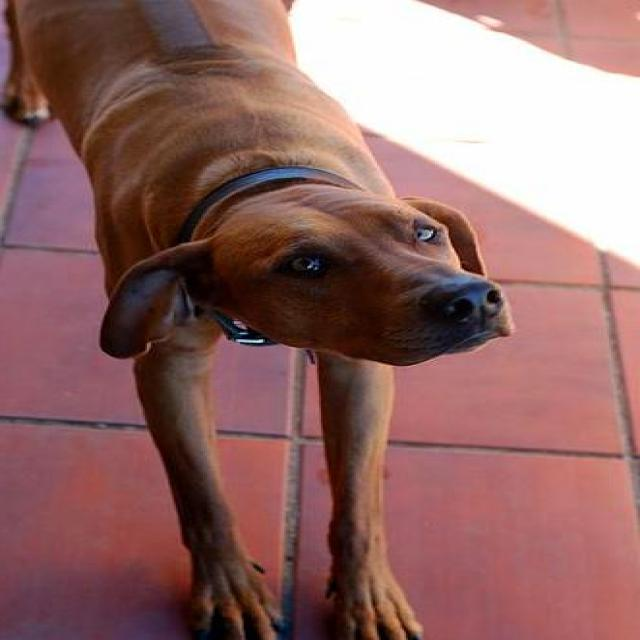rhodesian_ridgeback: (4, 0, 524, 637)
